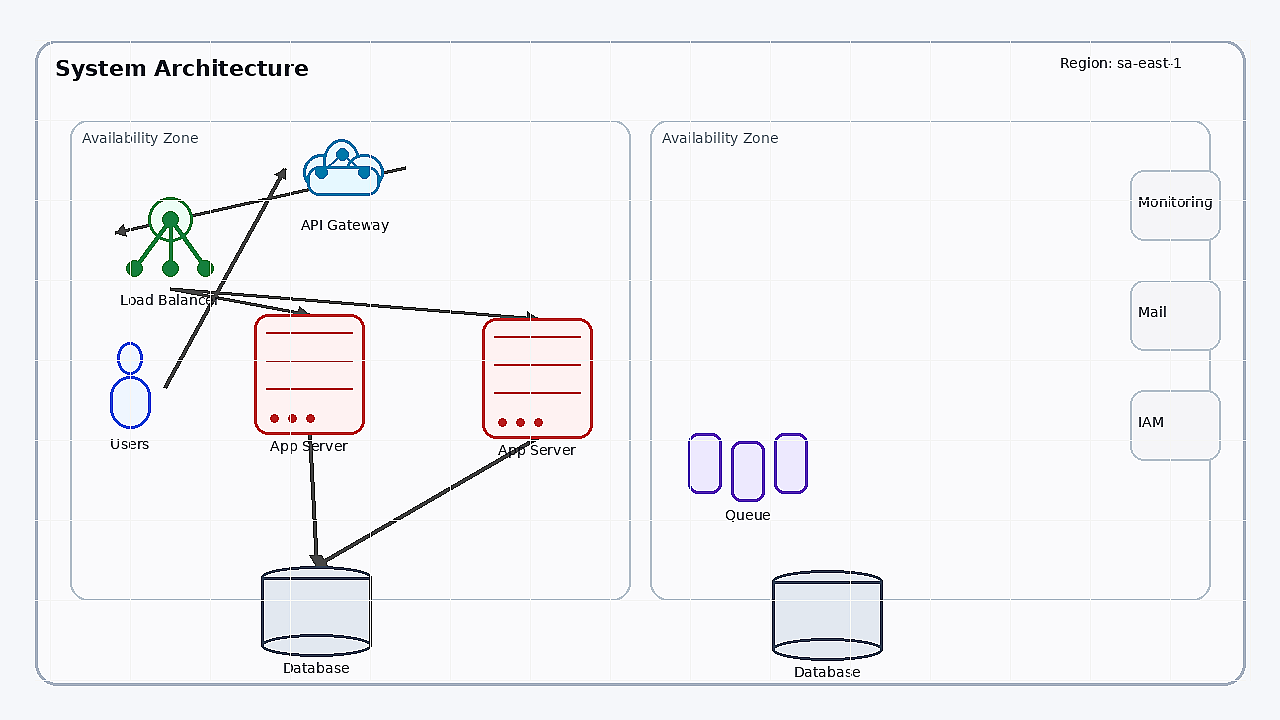API Gateway: (285, 123, 405, 213)
Application Server: (482, 318, 592, 438), (254, 314, 364, 434)
Database: (261, 566, 371, 656), (772, 570, 882, 660)
Load Balancer: (115, 178, 225, 288)
Message Queue: (688, 433, 808, 503)
User: (95, 342, 165, 432)
